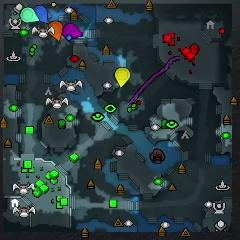p1: (33, 5, 48, 23)
p2: (21, 7, 39, 22)
p3: (63, 23, 83, 39)
p4: (115, 67, 130, 87)
p5: (47, 21, 63, 41)
